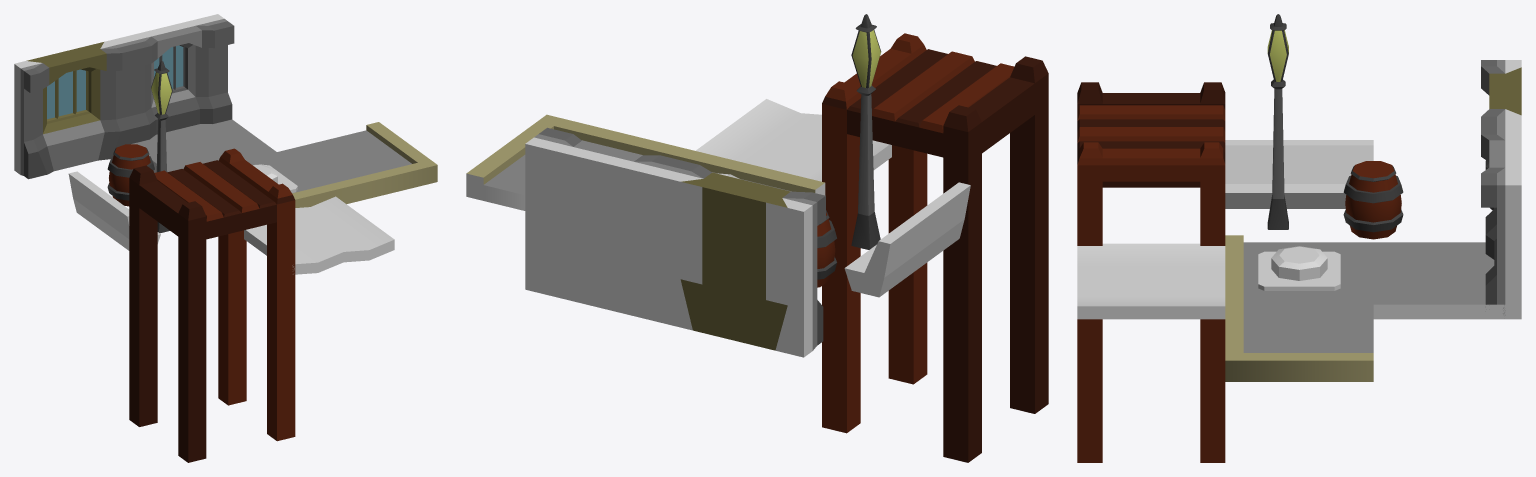
Rendered from CityModules.fbx.
3 renders of one model, left to right at view 1: azimuth 30°, elevation 25°; view 2: azimuth 150°, elevation 25°; view 3: azimuth 270°, elevation 25°, orthographic. The views are drawn at different scales.
Parts seen in each view (by area): view 1: Puente, Ventana2, Ventana, VeredaEsquina, Calle, Vereda, Banco, VeredaBorde, Barril, Farol; view 2: Puente, Ventana2, Ventana, Calle, Banco, VeredaEsquina, Farol, VeredaBorde, Vereda, Barril; view 3: Puente, VeredaEsquina, Calle, Vereda, Banco, Ventana, VeredaBorde, Barril, Farol, Ventana2, botonBase, Boton.
Boxes of the visible parts, x1,y1,x2,y2 form: Puente: (129, 148, 295, 462); Ventana2: (14, 39, 132, 179); Ventana: (116, 14, 234, 144); VeredaEsquina: (277, 122, 437, 204); Calle: (244, 196, 394, 274); Vereda: (131, 119, 276, 172); Banco: (68, 171, 160, 250); VeredaBorde: (245, 152, 335, 207); Barril: (107, 144, 154, 206); Farol: (151, 60, 172, 233); Puente: (822, 33, 1048, 462); Ventana2: (664, 161, 825, 357); Ventana: (525, 127, 685, 323); Calle: (695, 99, 891, 181); Banco: (844, 182, 970, 297); VeredaEsquina: (466, 114, 685, 210); Farol: (851, 14, 881, 249); VeredaBorde: (676, 148, 825, 195); Vereda: (525, 274, 664, 323); Barril: (817, 210, 836, 287); Puente: (1077, 82, 1225, 462); VeredaEsquina: (1225, 298, 1373, 381); Calle: (1077, 243, 1225, 319); Vereda: (1373, 242, 1521, 319); Banco: (1225, 140, 1373, 208); Ventana: (1481, 122, 1521, 319); VeredaBorde: (1225, 235, 1373, 304); Barril: (1343, 161, 1403, 239); Farol: (1267, 14, 1288, 229); Ventana2: (1481, 60, 1521, 222); botonBase: (1258, 251, 1340, 290); Boton: (1271, 246, 1327, 280).
Bounding box in the file's own units: 213 × 217 × 210.
